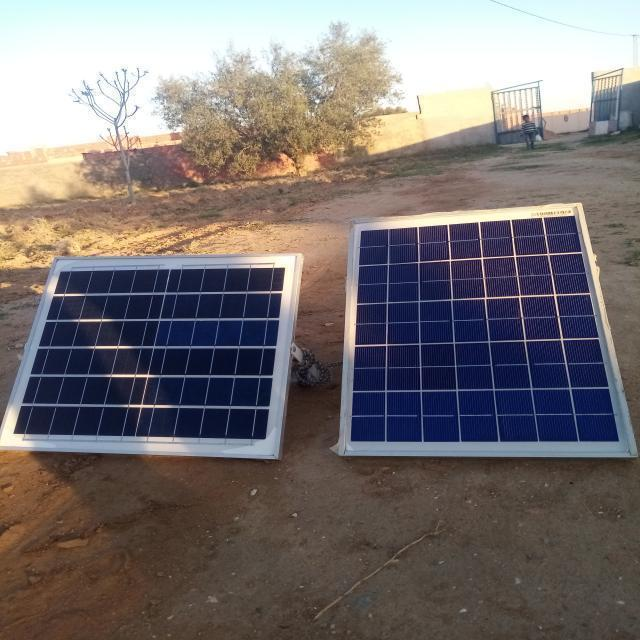Normal Solar Panel: (338, 209, 640, 460), (0, 252, 299, 454)
